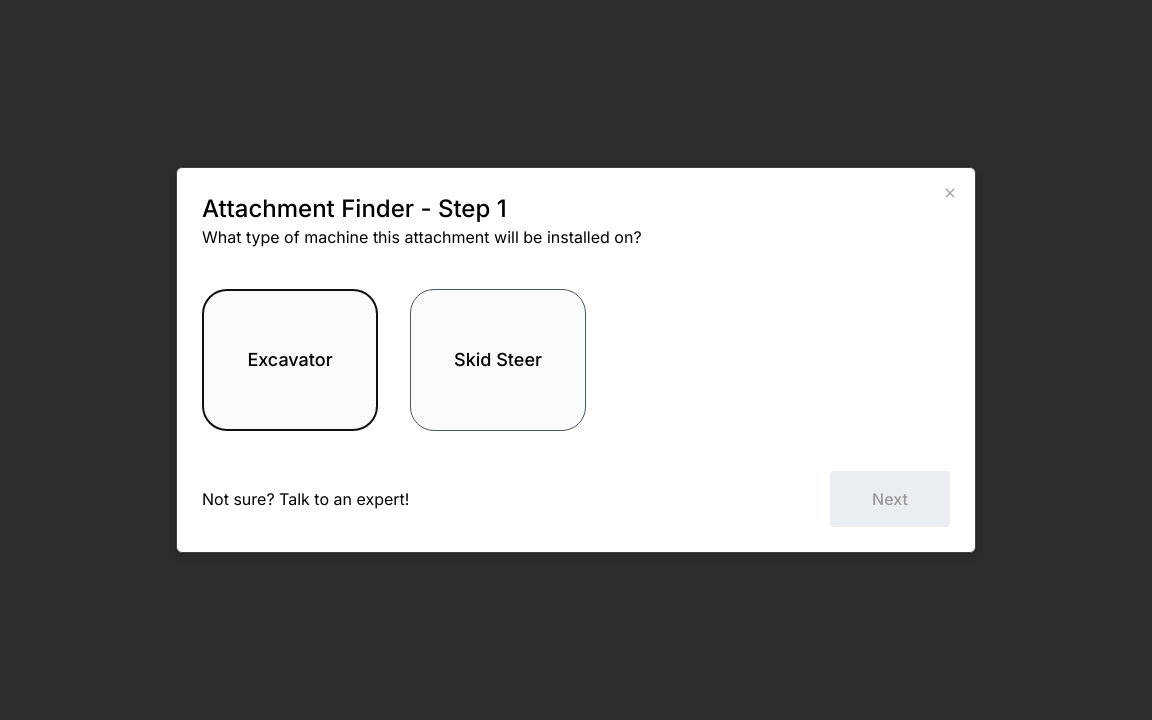
Test: Attachment finder modal › should render first step corretly
Click the button "Skid Steer" at (498, 360), box [410,289,586,431]
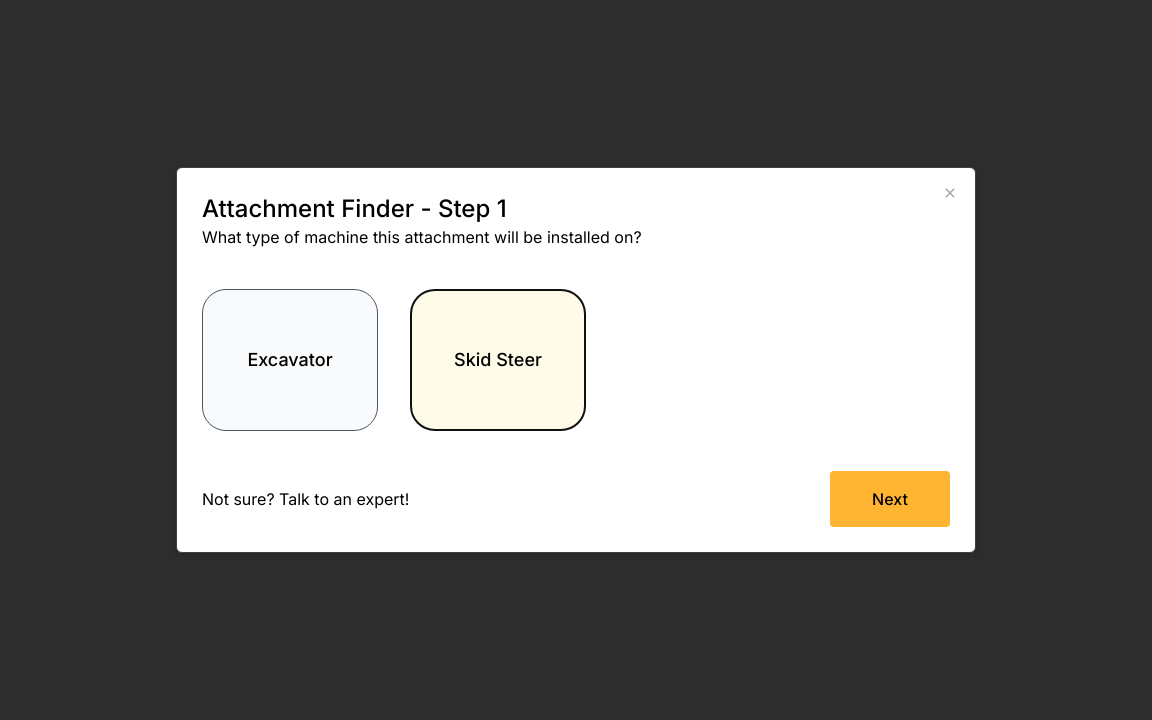
Click the button "Next" at (890, 499), box [830,471,950,527]
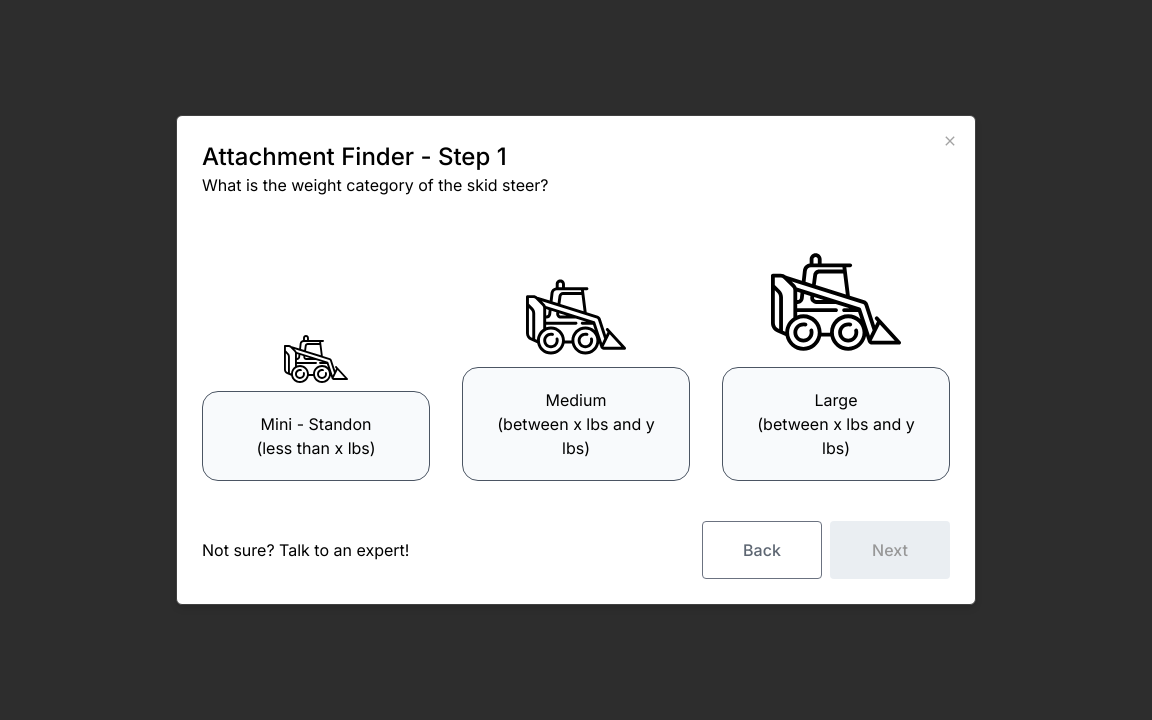
Expected: the text "What is the weight category of the skid steer?" is shown, [202,175,548,195]
Expected: the button "Mini - Standon (less than x lbs)" is shown, [202,391,430,481]
Expected: the button "Medium (between x lbs and y lbs)" is shown, [462,367,690,481]
